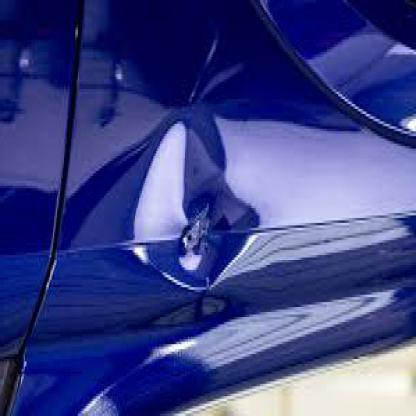dent: (132, 98, 266, 304)
